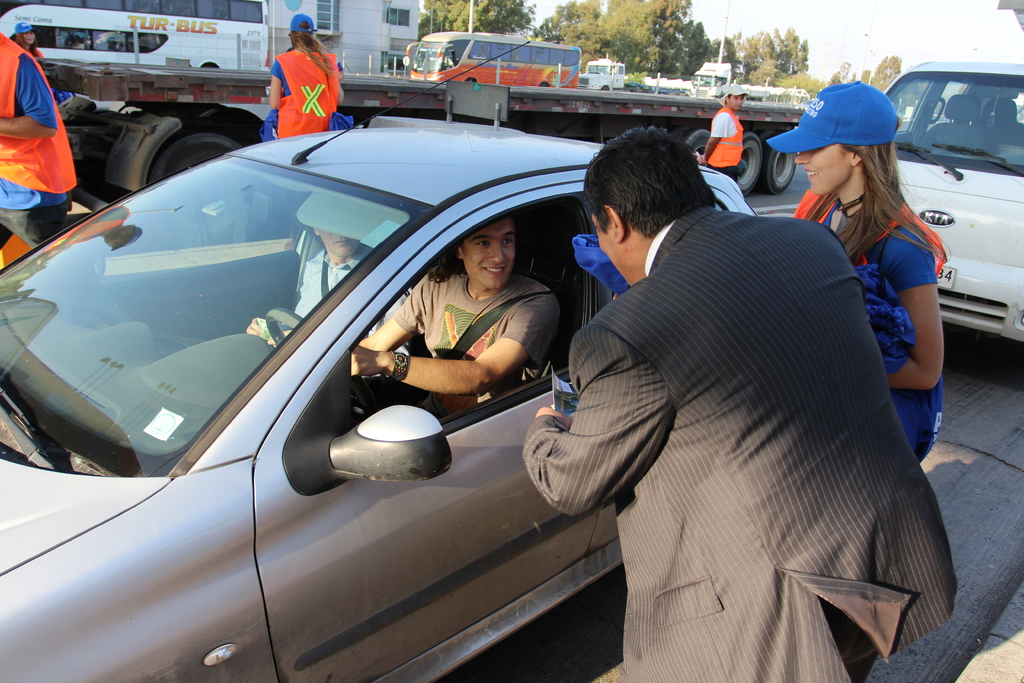Car: (5, 83, 762, 652), (882, 53, 1023, 342)
